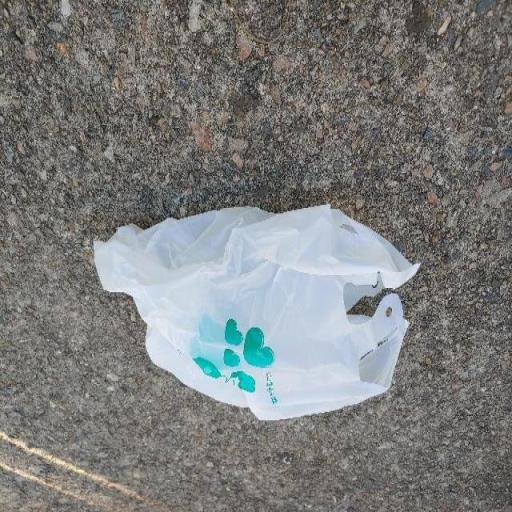plastic-bag: (92, 203, 423, 422)
